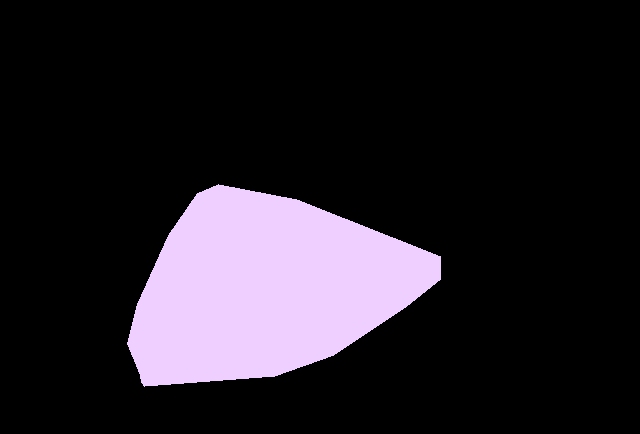Train: (127, 184, 441, 387)
